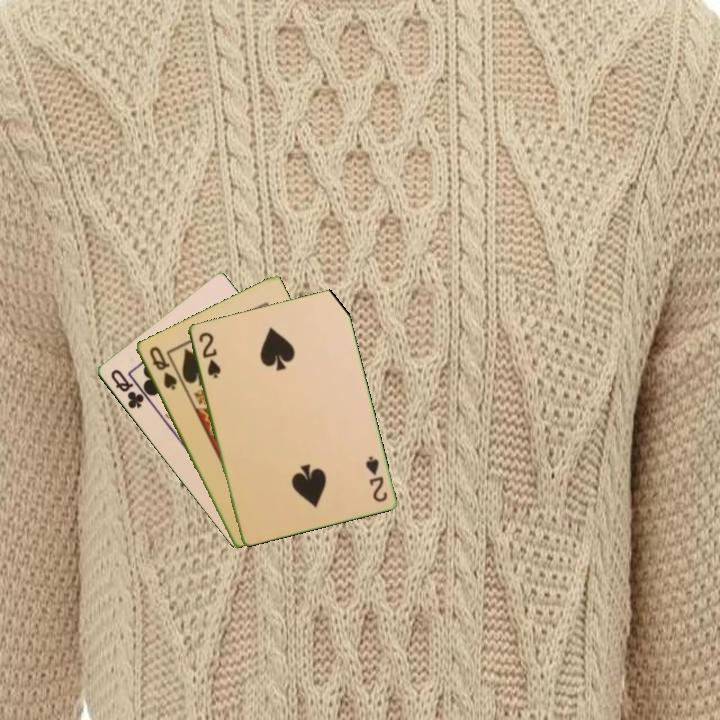2s: (195, 328, 223, 381), (362, 452, 390, 505)
Qc: (107, 365, 147, 412)
Qs: (145, 342, 180, 393)
